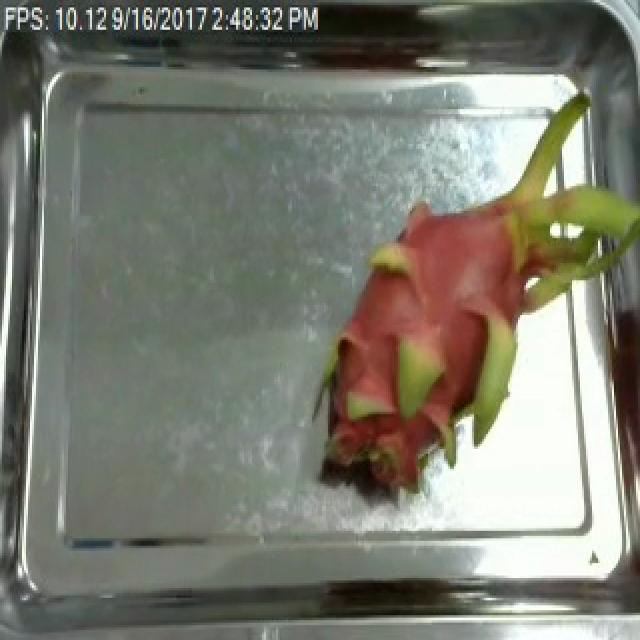fruit: (292, 116, 636, 524)
